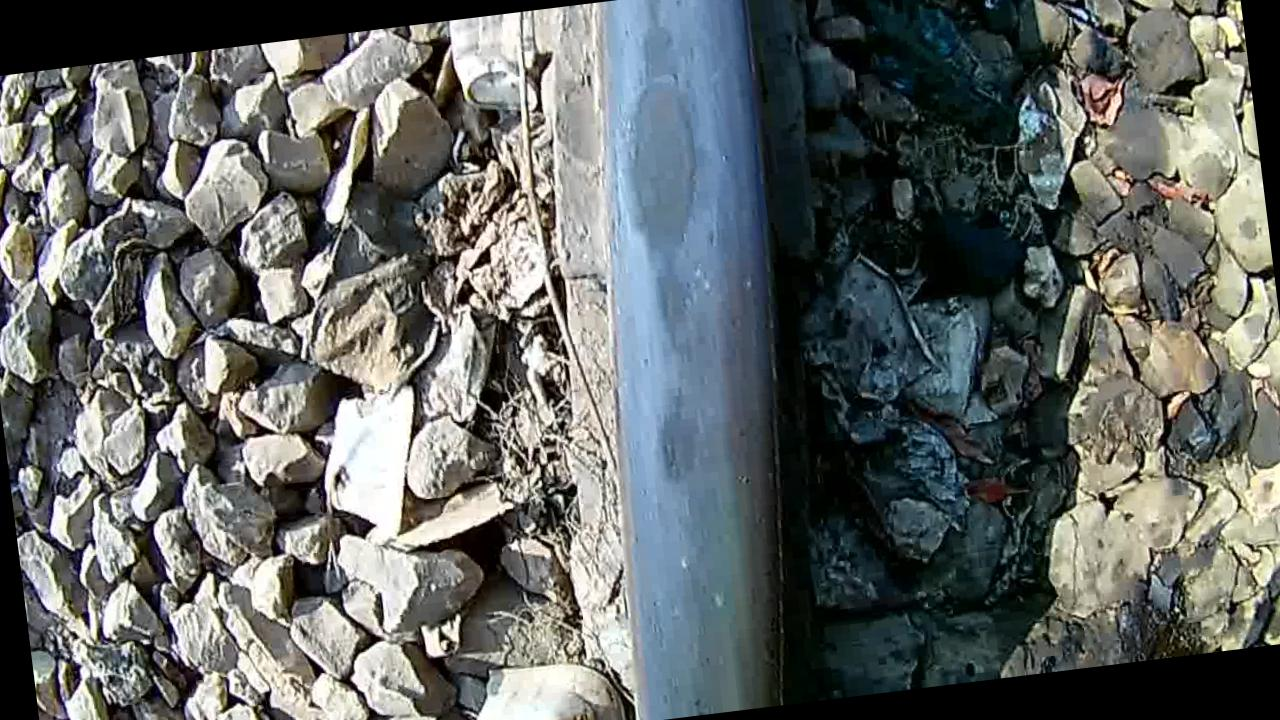bolt_missing: (569, 0, 806, 531)
